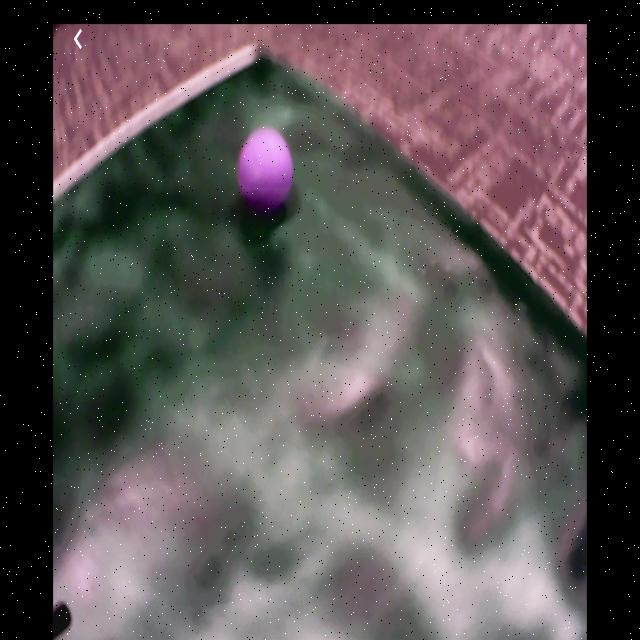ball: (239, 128, 294, 209)
